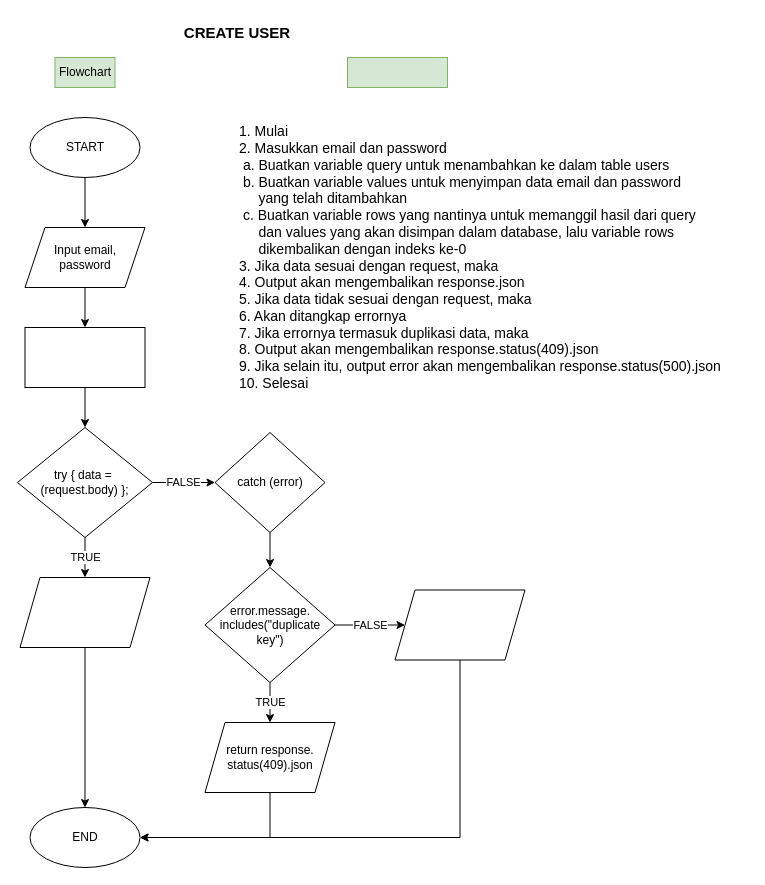
Image size: 765x885. Some labels were removed from this diagram. The shapes that lost their labels are listed below. From the top down, each one's centre as x and y in pixels, then its label:
At point (397, 72): "Natural Language".
At point (84, 357): "const query, values, { rows };".
At point (84, 612): "Output return response.json".
At point (459, 624): "return response. status(500).json".
